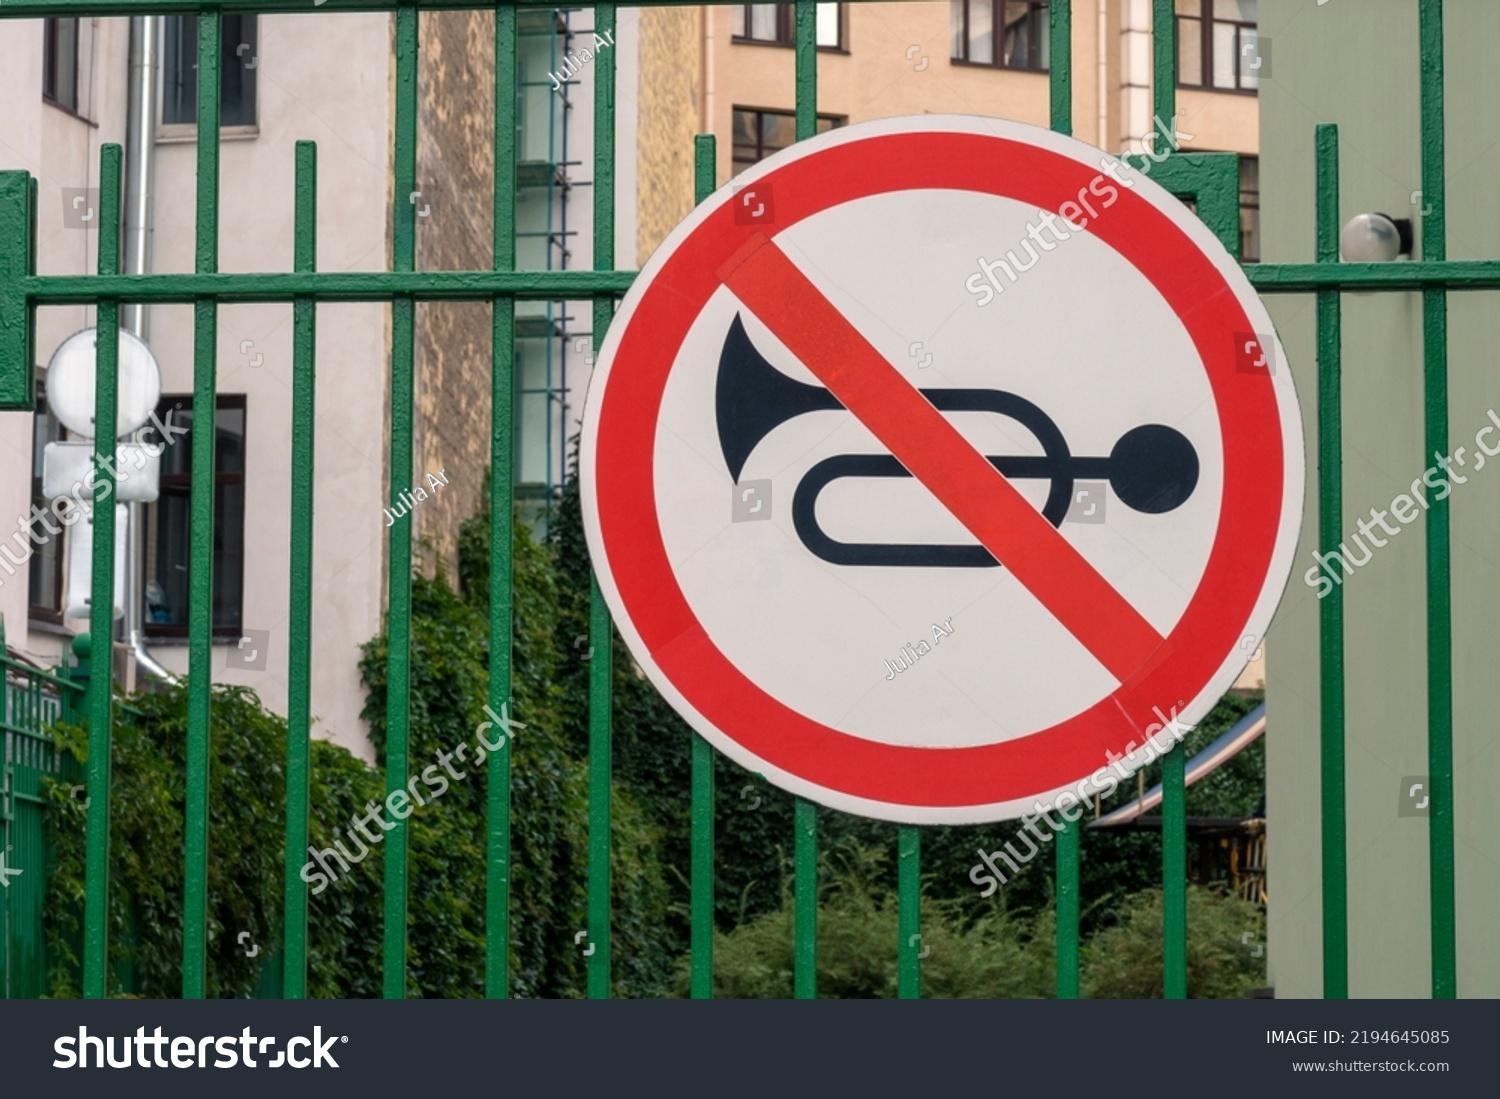Horn Prohibited: (551, 58, 1300, 865)
